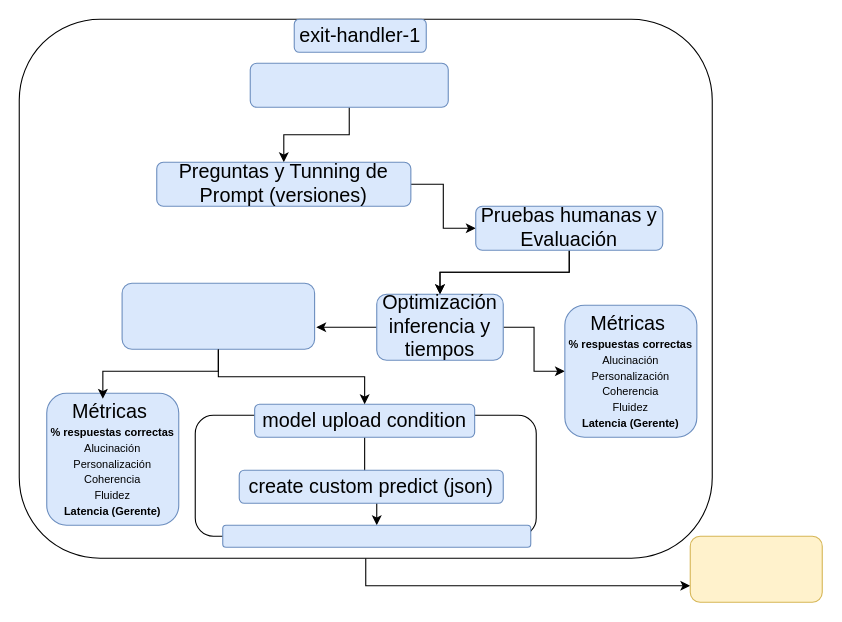
The diagram is 842 pixels wide and 622 high, and some of its shapes have lost their labels. Here are the shapes that lost their labels. From the top down, the centre of each, then its label:
the point at 348,84: GET DATA SQL o NO SQL
the point at 218,315: Asistente de creación preguntas y respuestas
the point at 376,535: save model version prompt, data
the point at 755,568: Notification MAIL exit-handler-1 Success or not succes running
